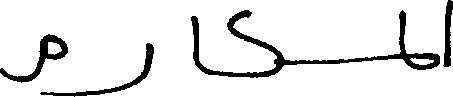ا: (443, 0, 452, 68), (191, 14, 198, 70)
ر: (64, 38, 153, 95)
ك: (225, 8, 282, 79)
ل: (395, 7, 420, 61), (402, 50, 439, 73)
م: (0, 32, 72, 83)
